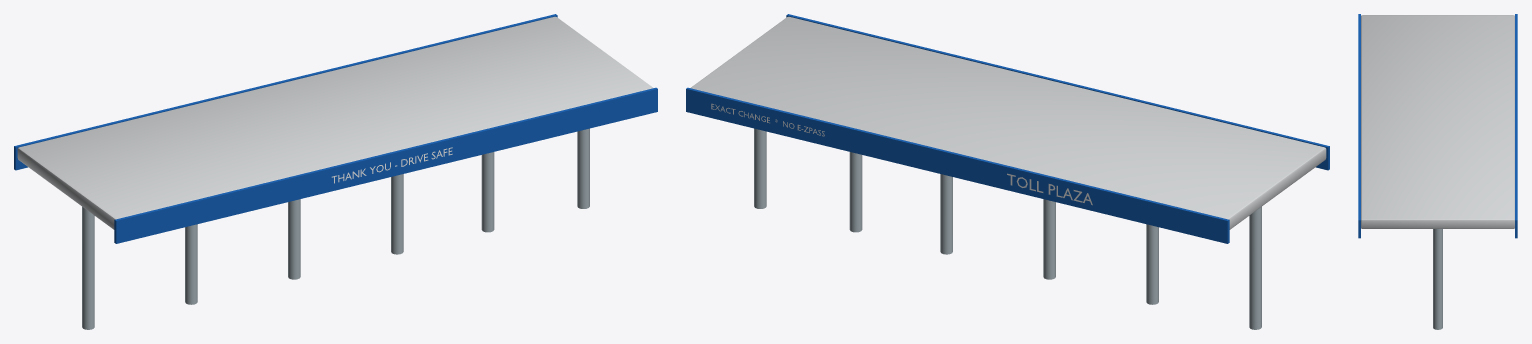
The model's file is roadevents_toll_canopy.glb.
3 views of the same model, side by side, from view 1: azimuth 30°, elevation 25°; view 2: azimuth 150°, elevation 25°; view 3: azimuth 270°, elevation 25° (orthographic). The views are drawn at different scales.
Visible parts, largest first — view 1: TollCanopy; view 2: TollCanopy; view 3: TollCanopy.
Boxes of the visible parts, x1,y1,x2,y2 form: TollCanopy: (14, 14, 657, 329); TollCanopy: (686, 14, 1329, 329); TollCanopy: (1358, 14, 1517, 329).
Bounding box in the file's own units: 22.1 × 5.83 × 7.24.
